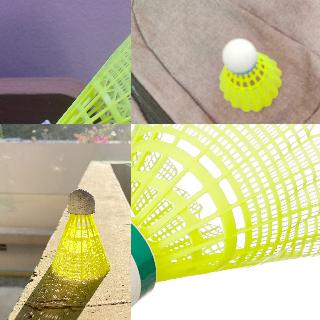shuttlecock: (131, 124, 319, 319), (11, 12, 130, 123), (51, 188, 109, 280), (218, 38, 282, 110)
